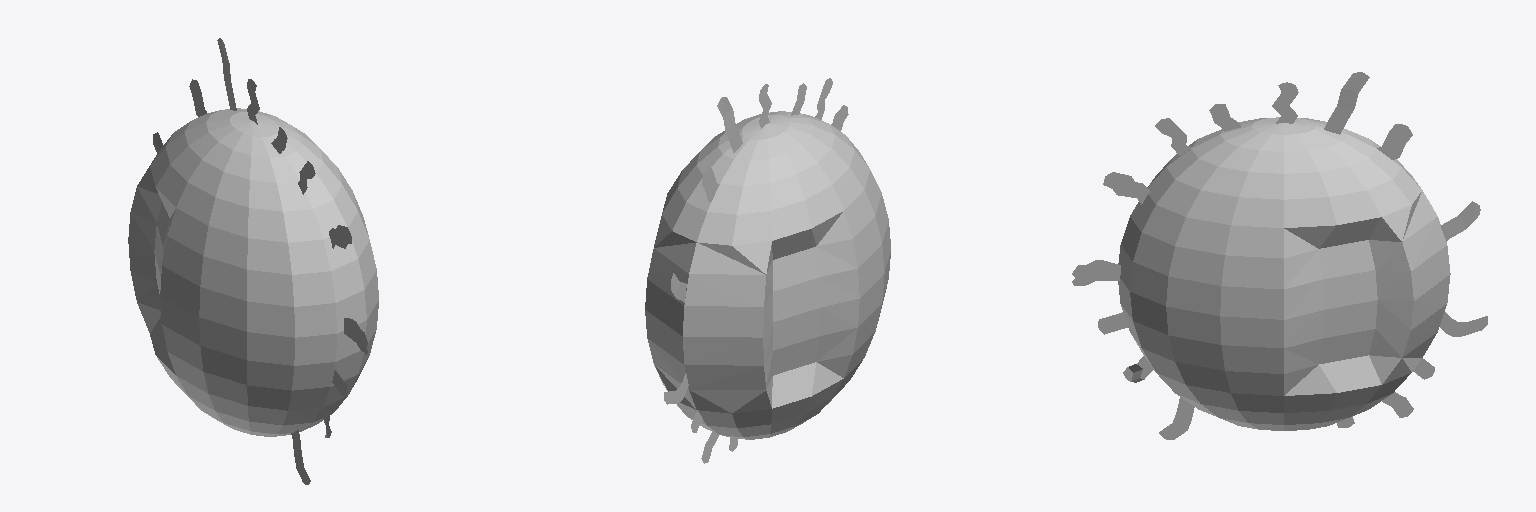
Rendered from Mca.obj.
The picture shows the model from 3 angles: view 1: azimuth 30°, elevation 25°; view 2: azimuth 150°, elevation 25°; view 3: azimuth 270°, elevation 25°; orthographic projection.
Parts seen in each view (by area): view 1: Plane.001; view 2: Plane.001; view 3: Plane.001.
Boxes of the visible parts, x1,y1,x2,y2 form: Plane.001: [128, 38, 378, 484]; Plane.001: [645, 78, 890, 463]; Plane.001: [1072, 72, 1487, 439].
Size of the model in its own units: 1.3 by 2.48 by 2.5.